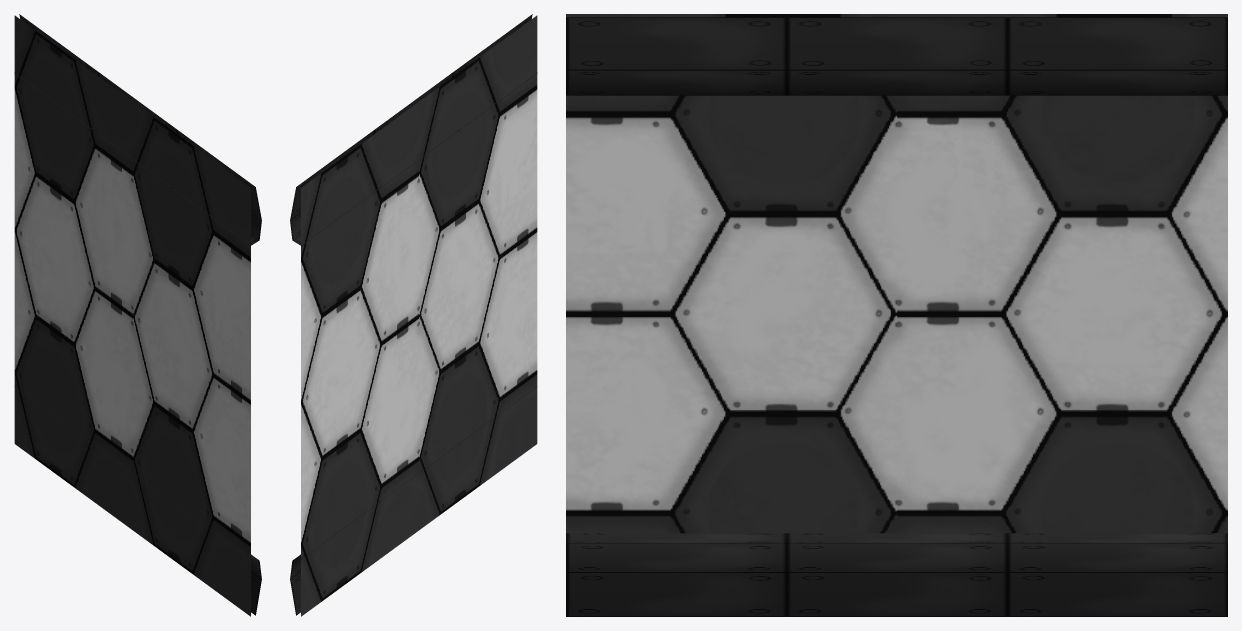
The model's file is Wall_TopBottom.fbx.
The picture shows the model from 3 angles, left to right: view 1: azimuth 30°, elevation 25°; view 2: azimuth 150°, elevation 25°; view 3: azimuth 270°, elevation 25°; orthographic projection. The views are drawn at different scales.
Visible parts, largest first — view 1: pPlane135; view 2: pPlane135; view 3: pPlane135.
Part boxes in pixels (box(x1,y1,x2,y2)): pPlane135: box(14, 14, 261, 616); pPlane135: box(290, 14, 537, 616); pPlane135: box(566, 14, 1227, 616).
Bounding box in the file's own units: 0.0554 × 2 × 2.
